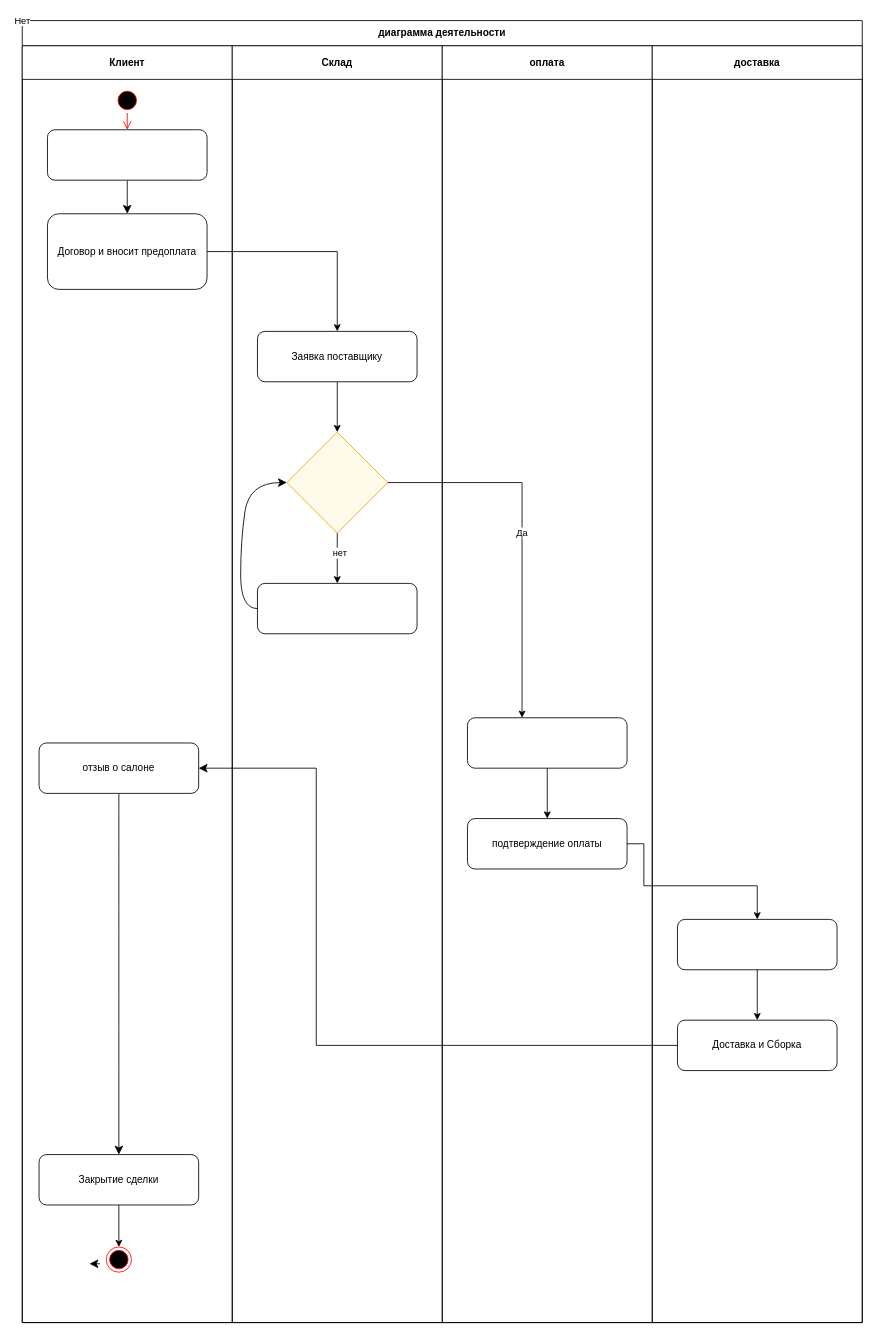
This 877x1337 diagram has some shape labels left out. Here are the shapes that lost their labels. From the top down, the centre of each, then its label:
At point 127,154: "выбирает мебель".
At point 337,482: "В наличии?".
At point 337,608: "Ожидание поступление мебели".
At point 547,742: "Оплата от клиента".
At point 757,944: "сбор товара в машину".
